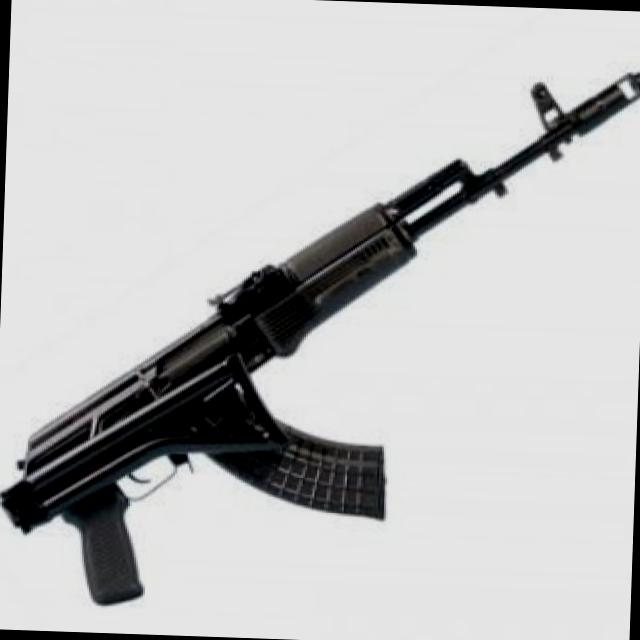long weapon: (2, 36, 639, 622)
